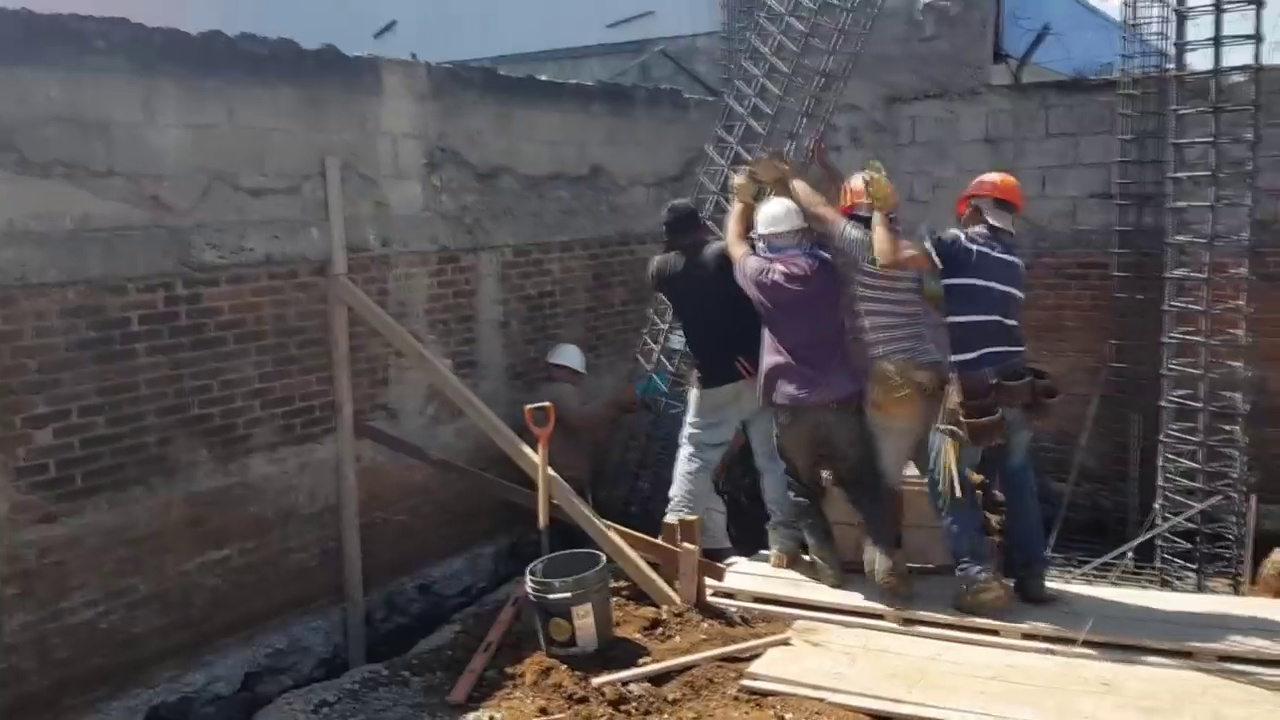helmet: (957, 168, 1034, 222), (750, 192, 806, 242), (840, 167, 900, 213), (543, 341, 590, 374)
helmet-off: (665, 197, 708, 247)
helmet-on: (960, 168, 1034, 247), (750, 192, 807, 265), (839, 169, 901, 235), (541, 341, 592, 390)
person: (785, 166, 956, 589), (726, 164, 878, 573), (645, 192, 785, 580), (935, 162, 1046, 588), (523, 340, 607, 537)
